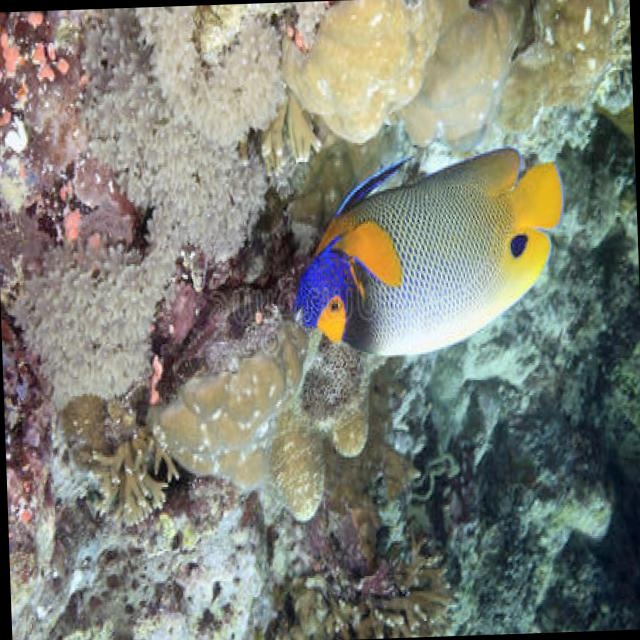AngelFish: (294, 138, 568, 360)
